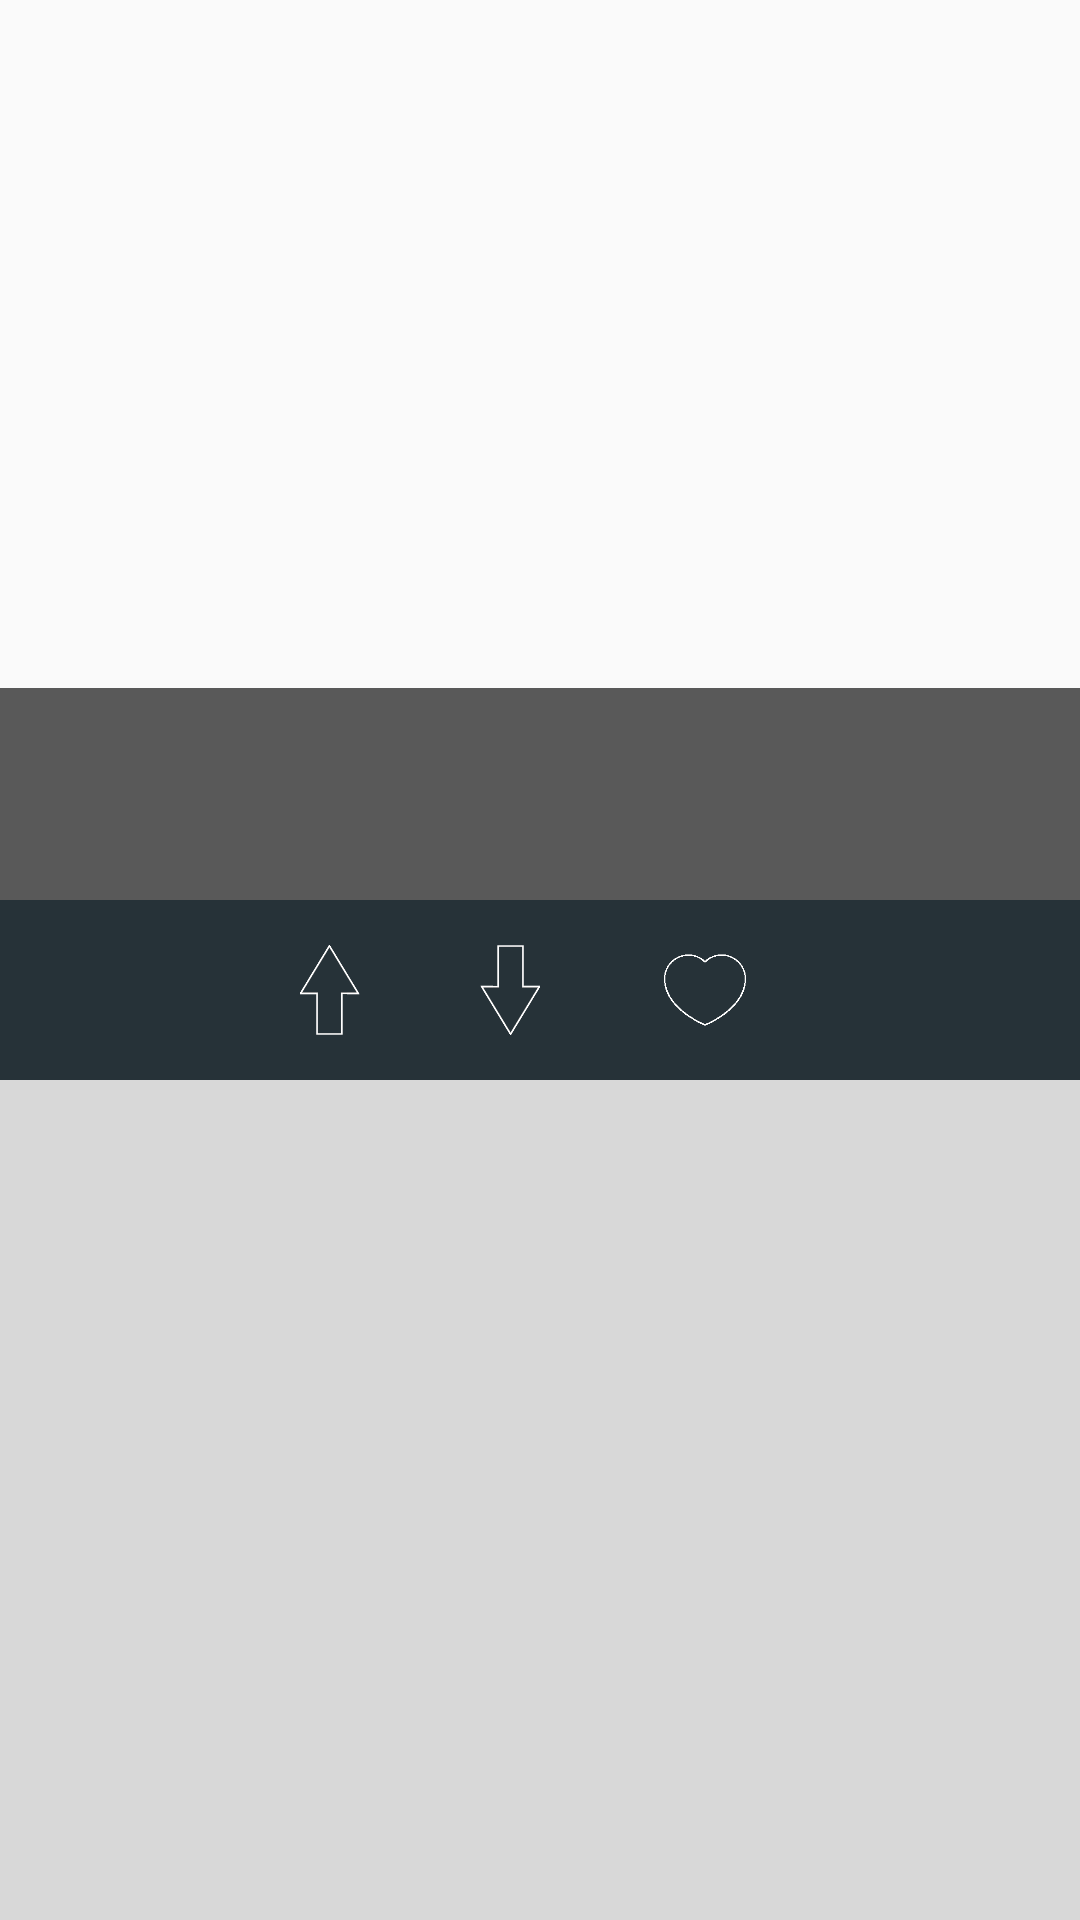

Screen size 1080 × 1920. Icon name, then its center in pixels as (x,y):
arrow down unfilled: (510,990)
arrow up unfilled: (330,990)
